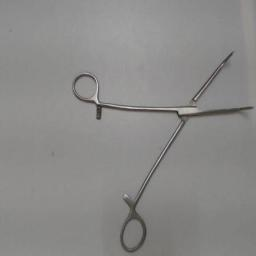Lahey Forceps: (68, 46, 256, 254)
